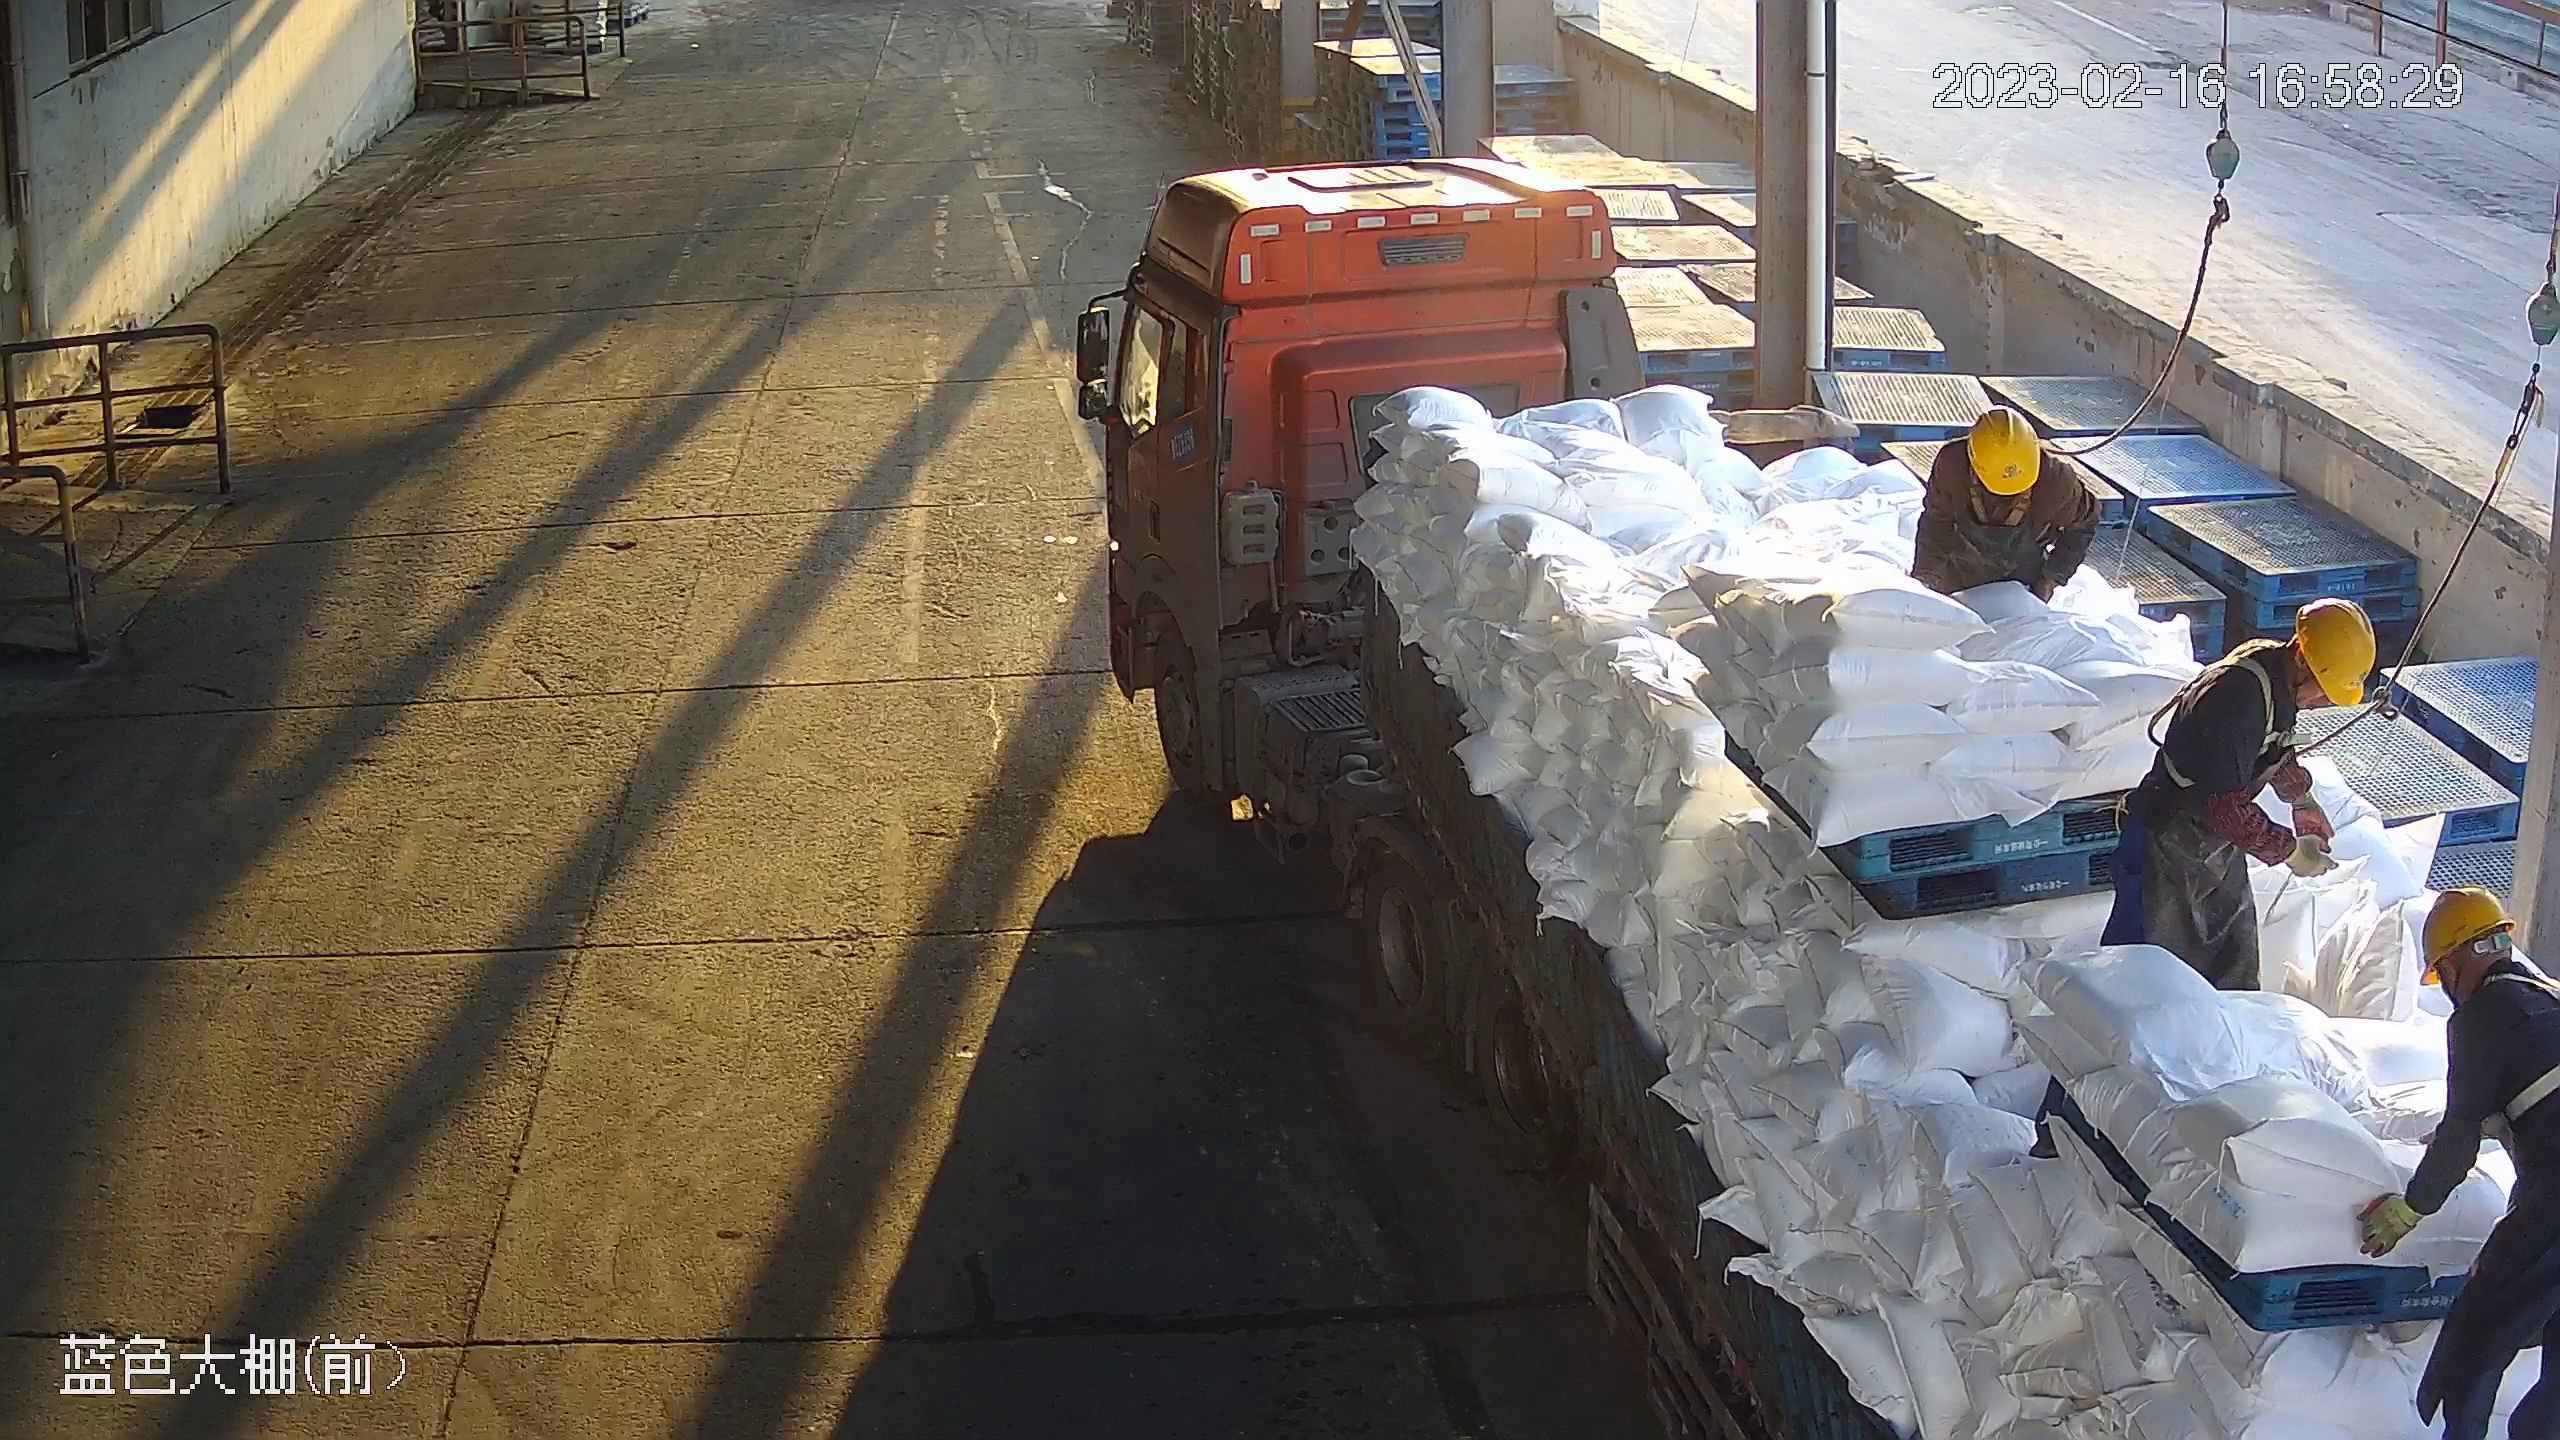belt: (2137, 642, 2282, 788), (1970, 490, 2044, 537)
head: (2402, 890, 2560, 1048), (2211, 606, 2376, 748), (1939, 413, 2076, 534)
helmet: (2413, 886, 2509, 981), (2299, 595, 2379, 708), (1960, 404, 2039, 495)
people: (2109, 601, 2381, 1090), (2369, 895, 2560, 1440)
truck: (1070, 144, 2560, 1440)
